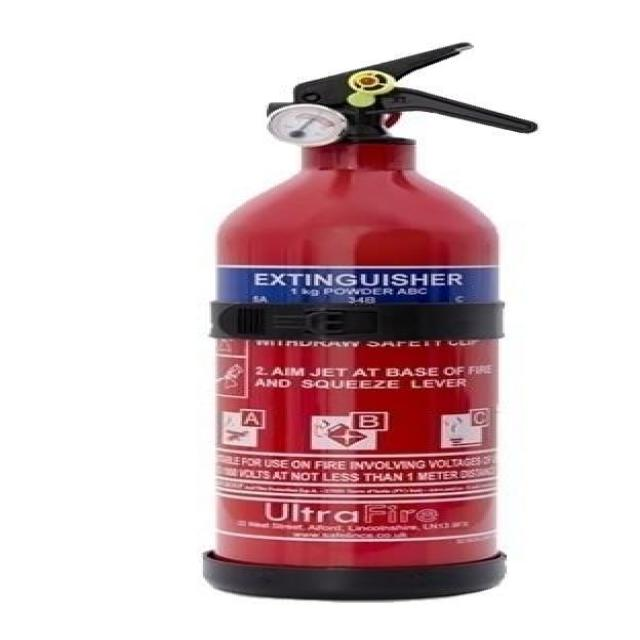fire_extinguisher: (190, 38, 548, 603)
